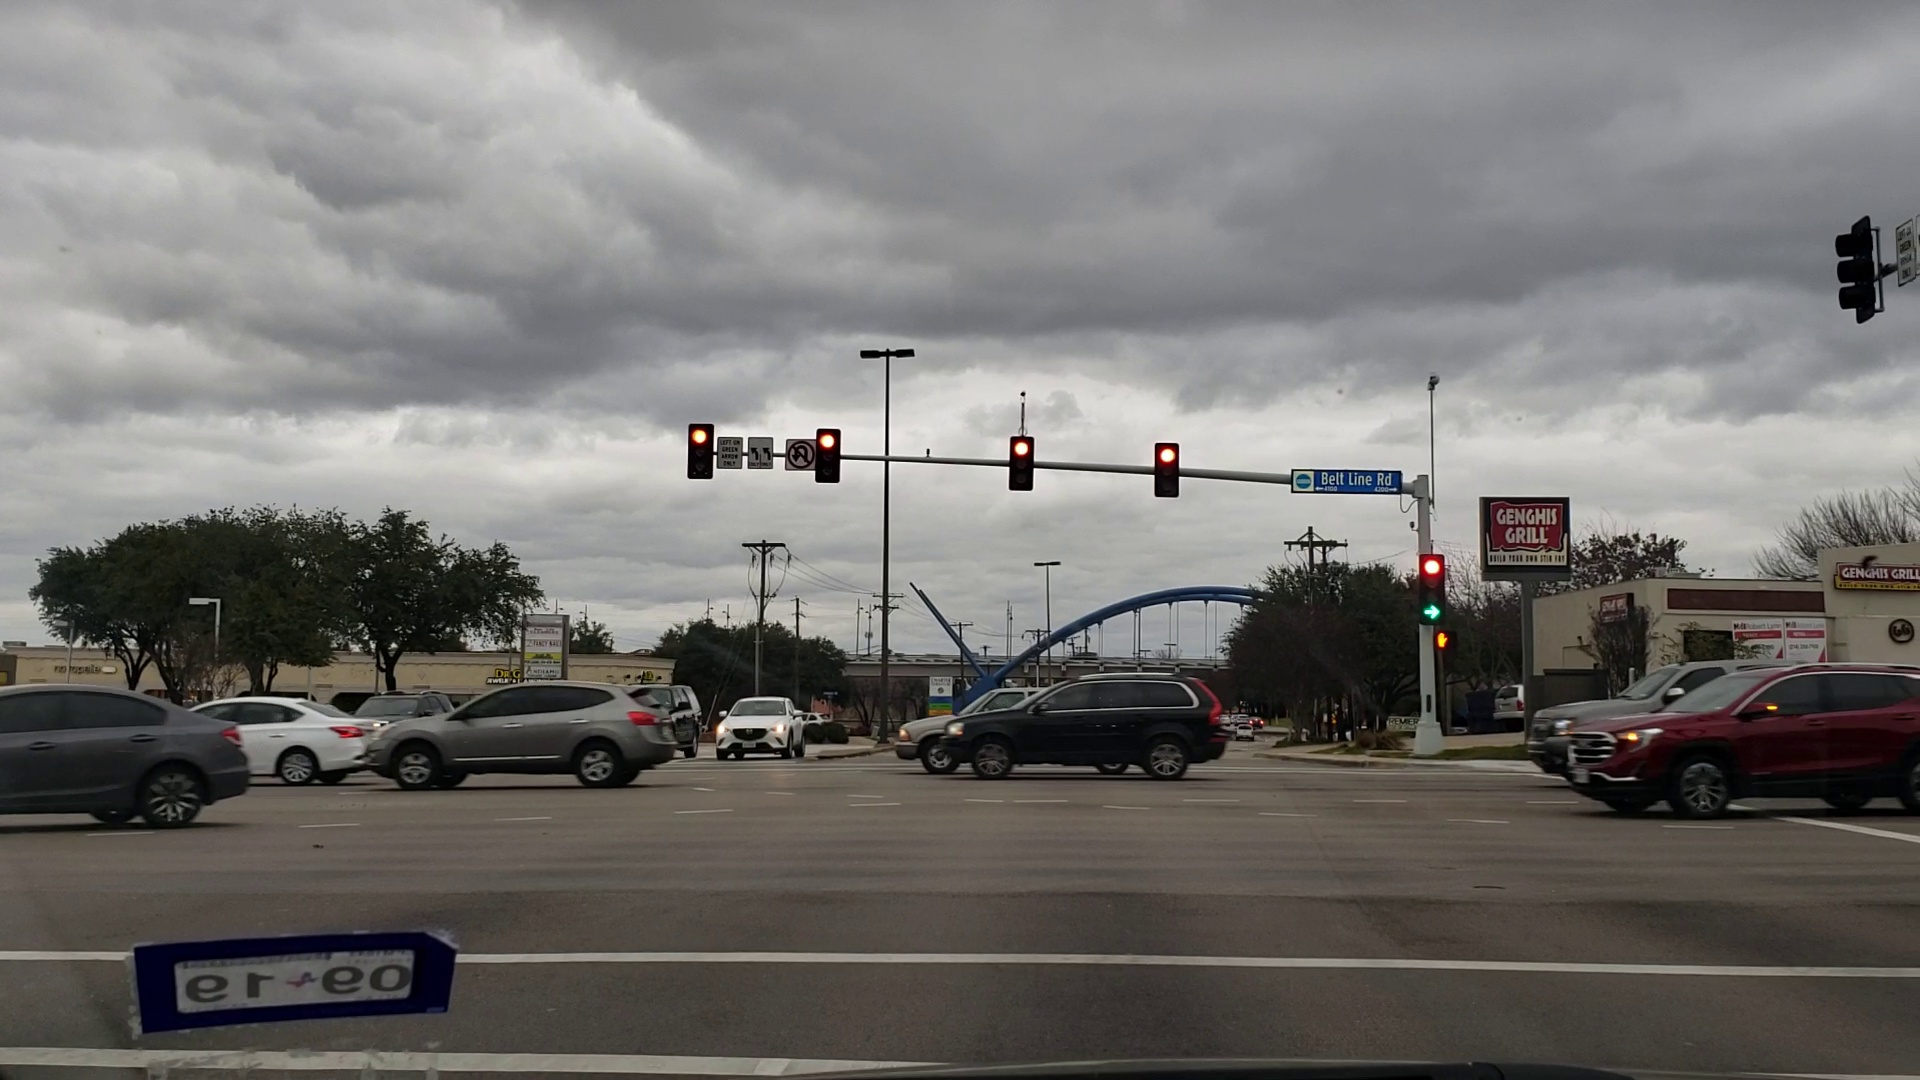car: (1573, 644, 1920, 823), (11, 671, 258, 831), (1528, 642, 1771, 793), (936, 676, 1240, 793), (375, 673, 683, 785), (190, 684, 373, 789), (899, 667, 1052, 782), (715, 688, 818, 767), (622, 671, 705, 769), (344, 675, 450, 731)
traffic light: (1838, 220, 1879, 316), (1419, 555, 1448, 622), (686, 421, 717, 480), (1156, 440, 1185, 498), (816, 425, 839, 484), (1011, 435, 1031, 489)
